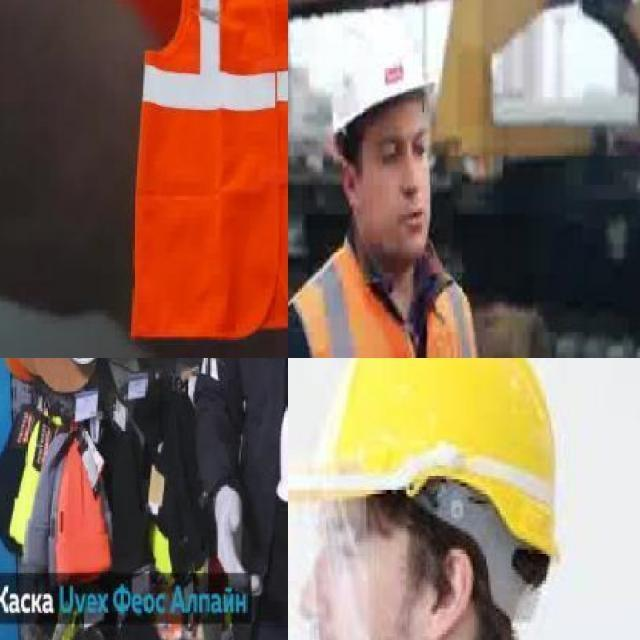apron: (206, 480, 265, 600)
